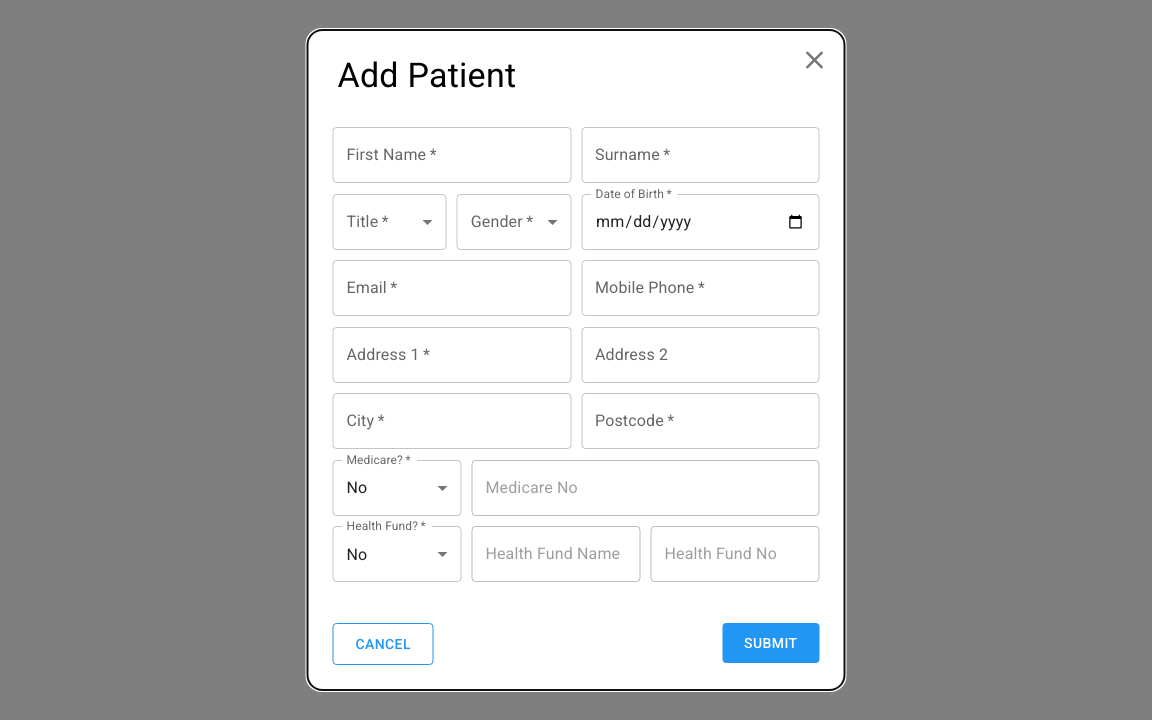
Scenario: Add Patient Modal › invalid value
Step 1. Type "first" into the field labelled "First Name" → coordinates (452, 155), box [332,127,571,183]
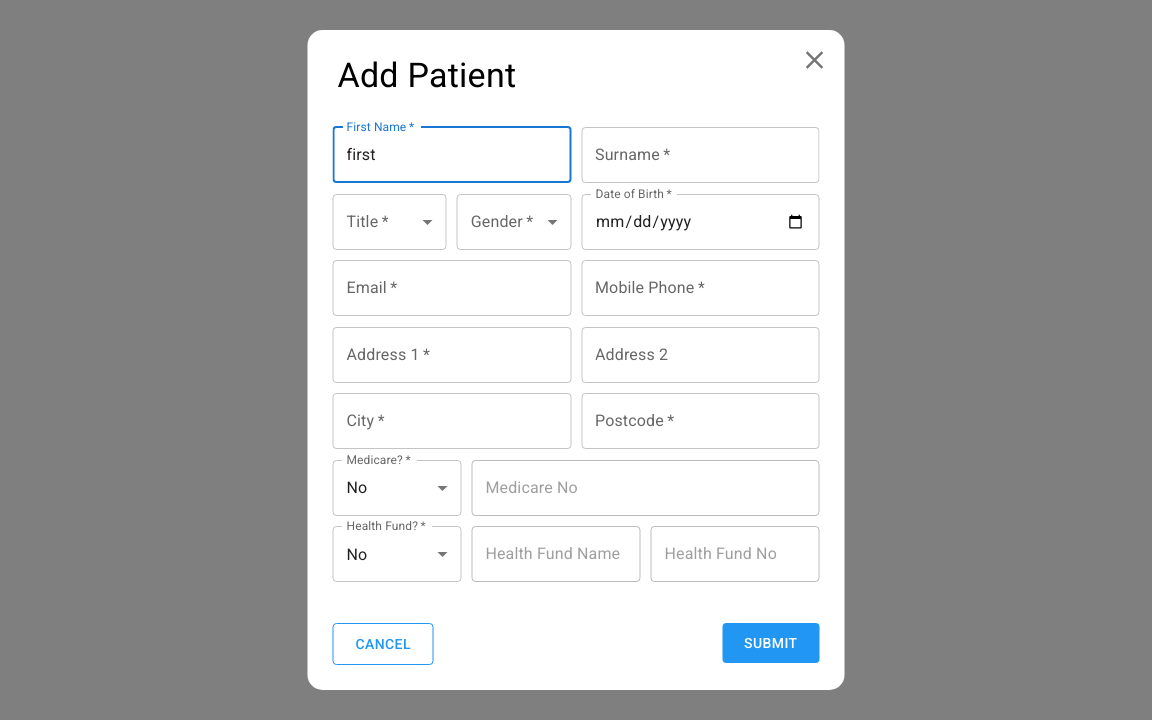
Step 2. Type "first" into the field labelled "Surname" → coordinates (700, 155), box [581,127,820,183]
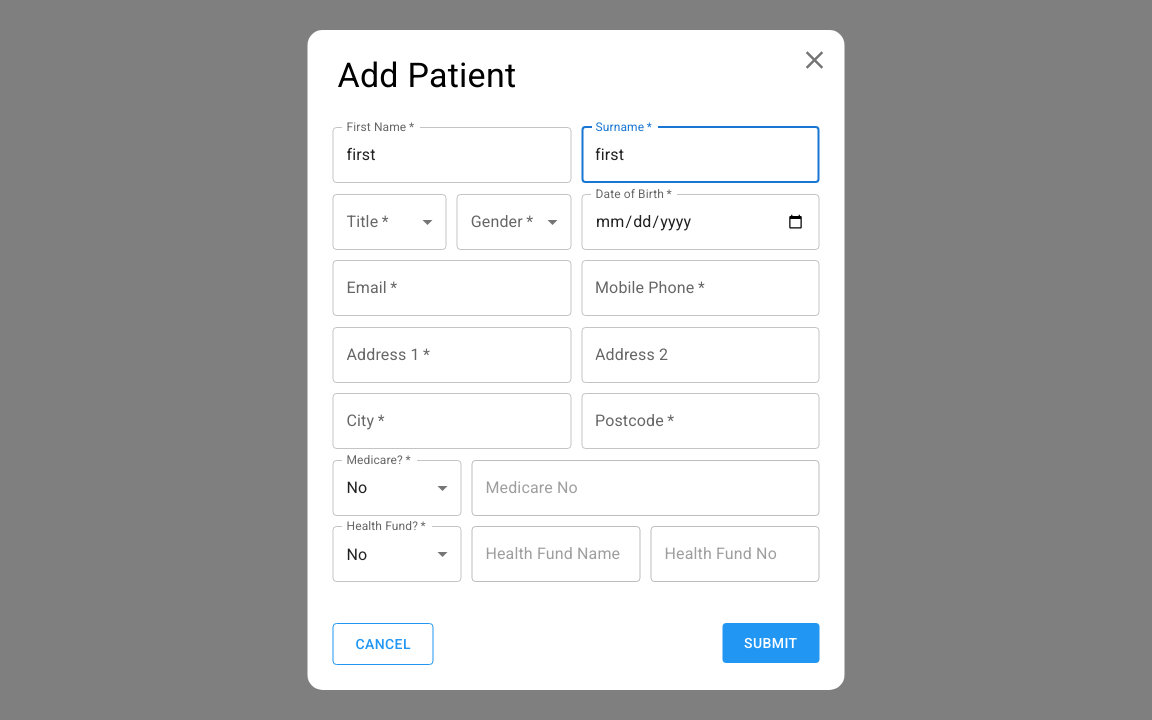
Step 3. Type "123456" into the number field labelled "Mobile Phone" → coordinates (700, 288), box [581,260,820,316]
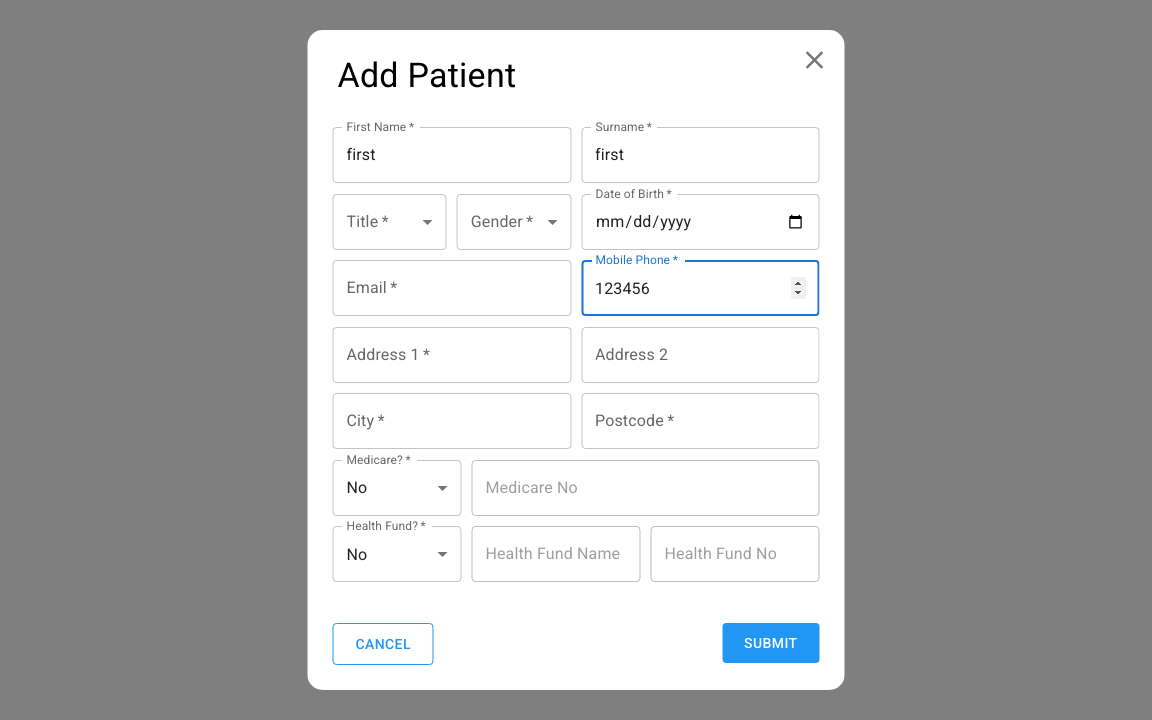
Step 4. Type "first" into the field labelled "Email" → coordinates (452, 288), box [332,260,571,316]
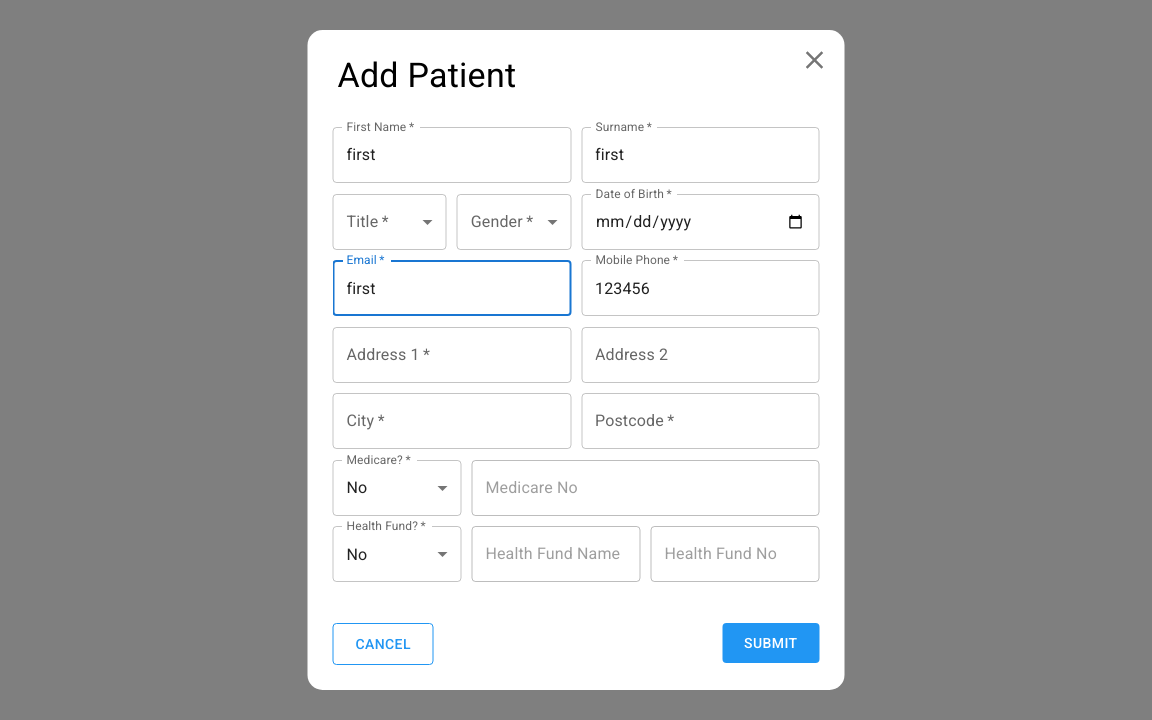
Step 5. Click the button "Submit" → coordinates (771, 643), box [722,622,820,663]
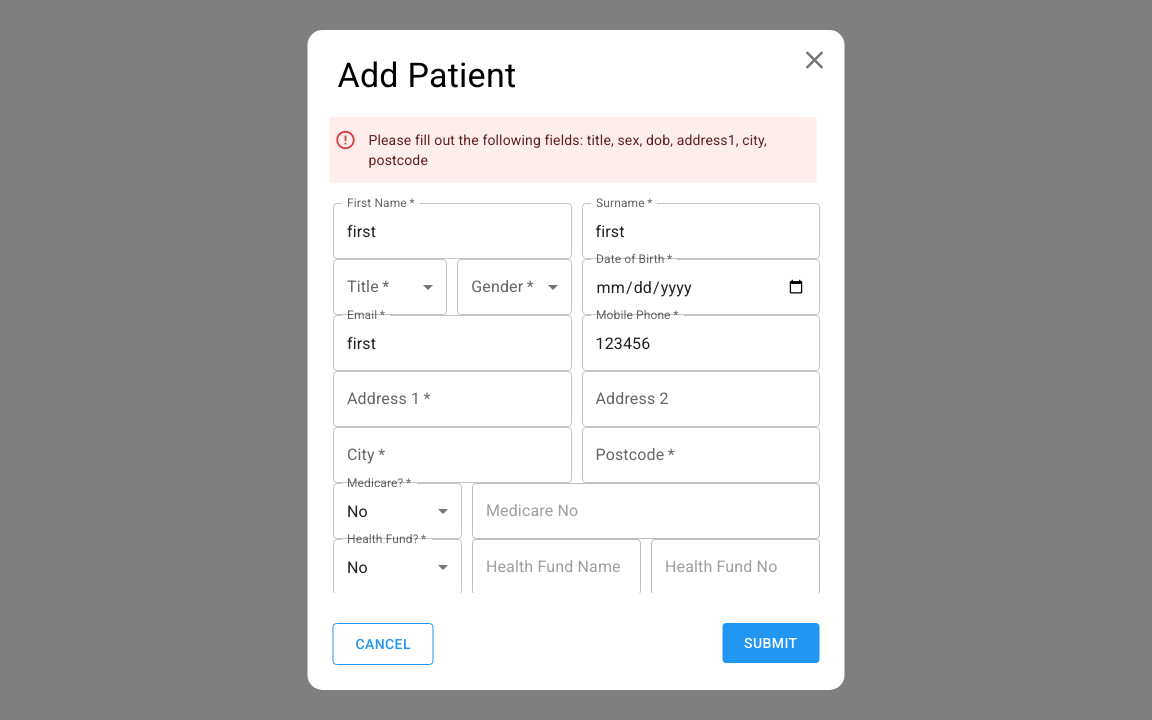
Result: the text "Please fill out the following fields: title, sex, dob, address1, city, postcode" is shown at [368,122,812,178]
